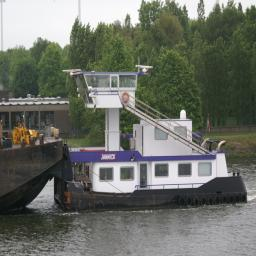tugboat: (60, 60, 249, 211)
